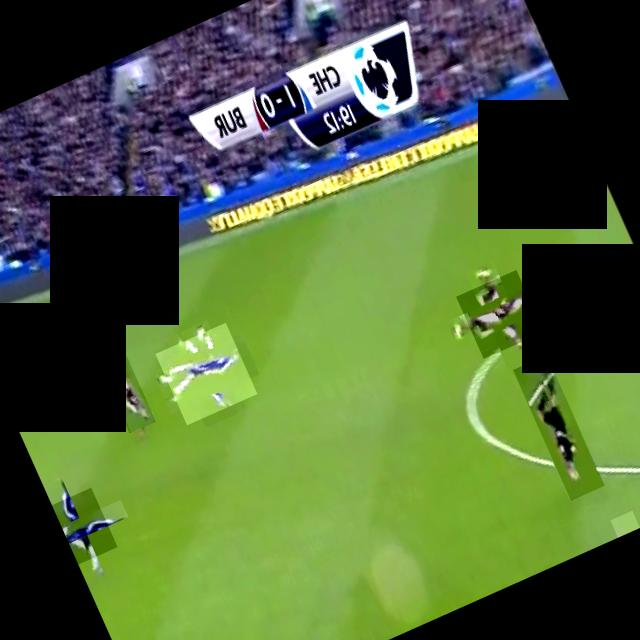referee: (513, 354, 605, 500)
soccer-player: (156, 322, 258, 426), (456, 270, 544, 358), (52, 488, 118, 564), (99, 352, 156, 433), (610, 510, 640, 537)
